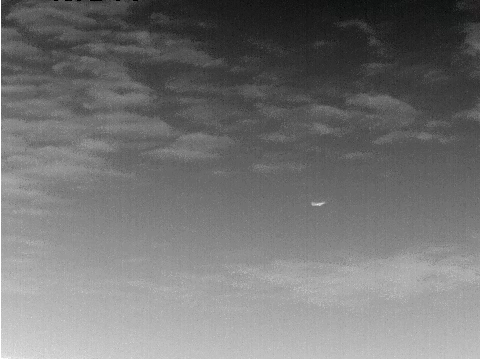dim target: (309, 199, 325, 207)
